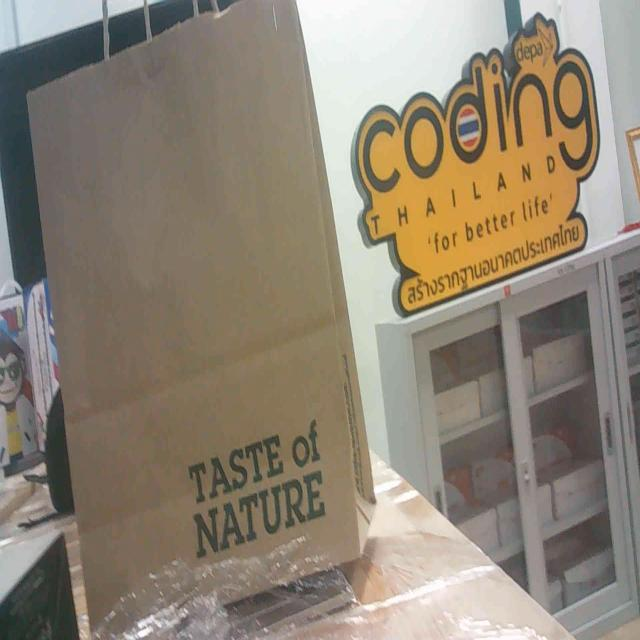bag: (17, 17, 392, 638)
